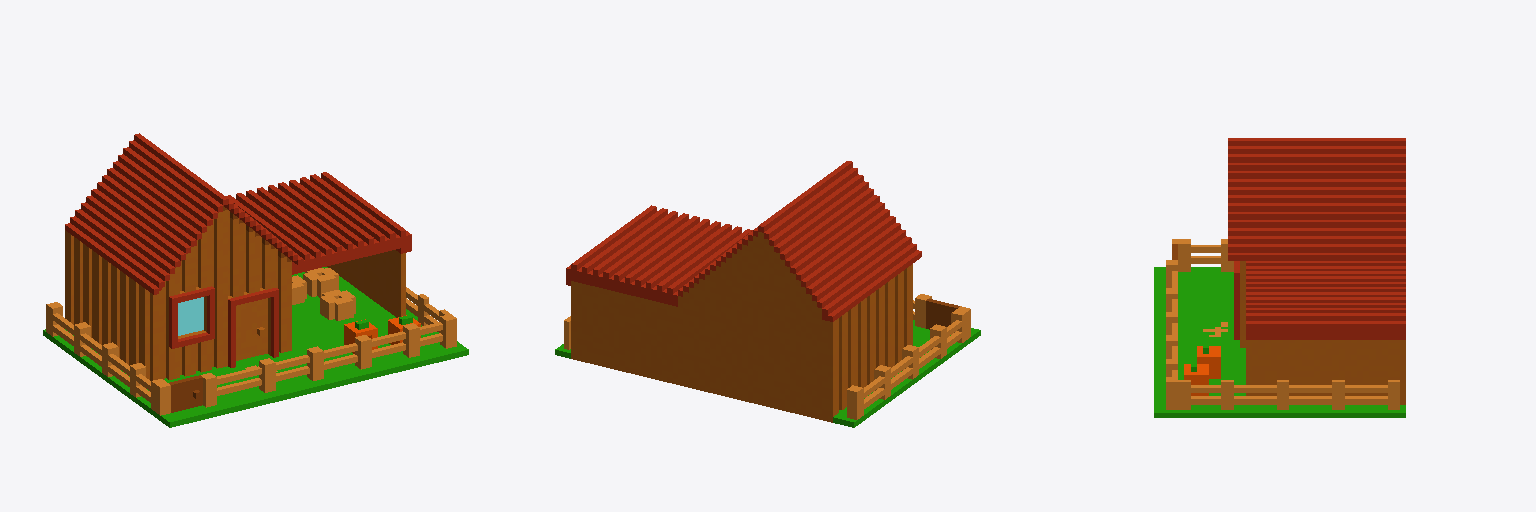
The picture shows the model from 3 angles: view 1: azimuth 30°, elevation 25°; view 2: azimuth 150°, elevation 25°; view 3: azimuth 270°, elevation 25°; orthographic projection.
Visible parts, largest first — view 1: object 1; view 2: object 1; view 3: object 1.
Boxes of the visible parts, box(x1,y1,x2,y2) form: object 1: box(43, 133, 468, 427); object 1: box(555, 161, 980, 427); object 1: box(1154, 138, 1405, 417).
Size of the model in its own units: 5.6 by 3.2 by 4.1.
Materials: 1 (1 with a texture image).